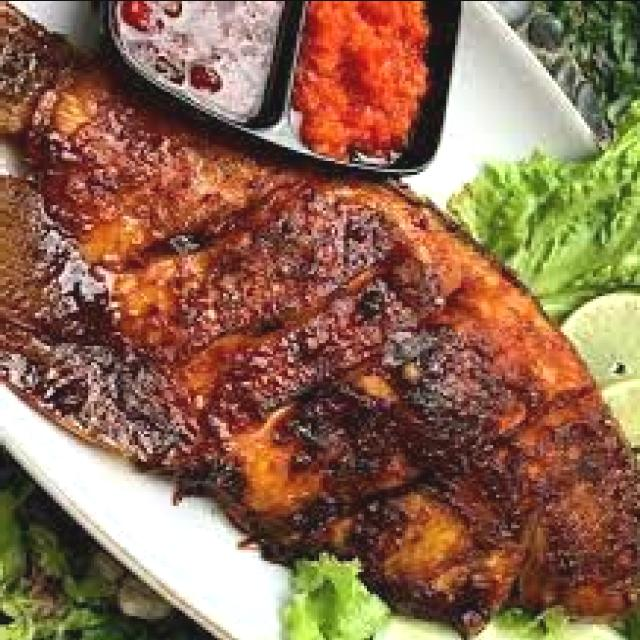ikan bakar: (0, 0, 640, 640)
